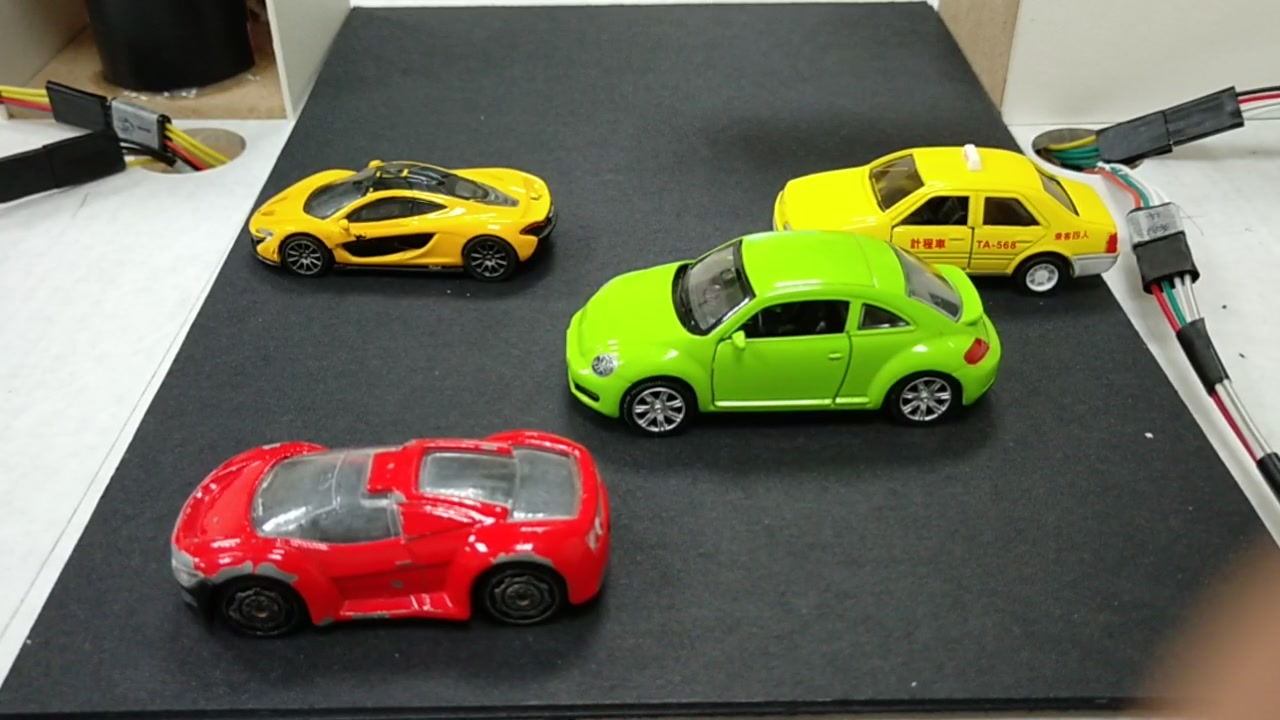car: (159, 436, 619, 639), (579, 230, 989, 416), (775, 153, 1111, 288), (243, 162, 556, 282)
